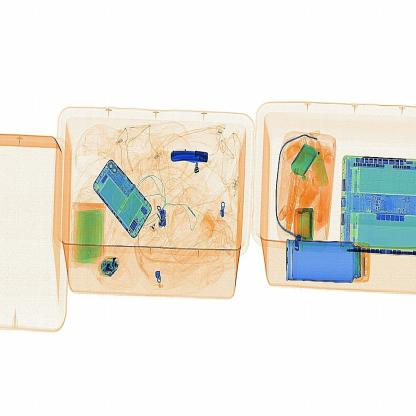knife: (167, 144, 214, 172)
